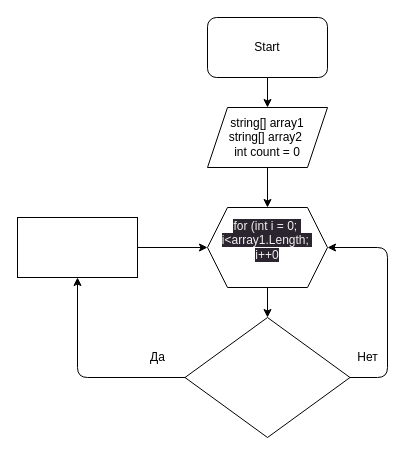
The diagram is 413 pixels wide and 455 high, and some of its shapes have lost their labels. The shapes that lost their labels are listed below. From the top down, each one's box as (x1, y1, x2, y2) in pixels, then its label:
(16, 216, 138, 278): array2[count] = array1[i] count++
(184, 316, 350, 438): if (array1[i].Lenght<=3)
